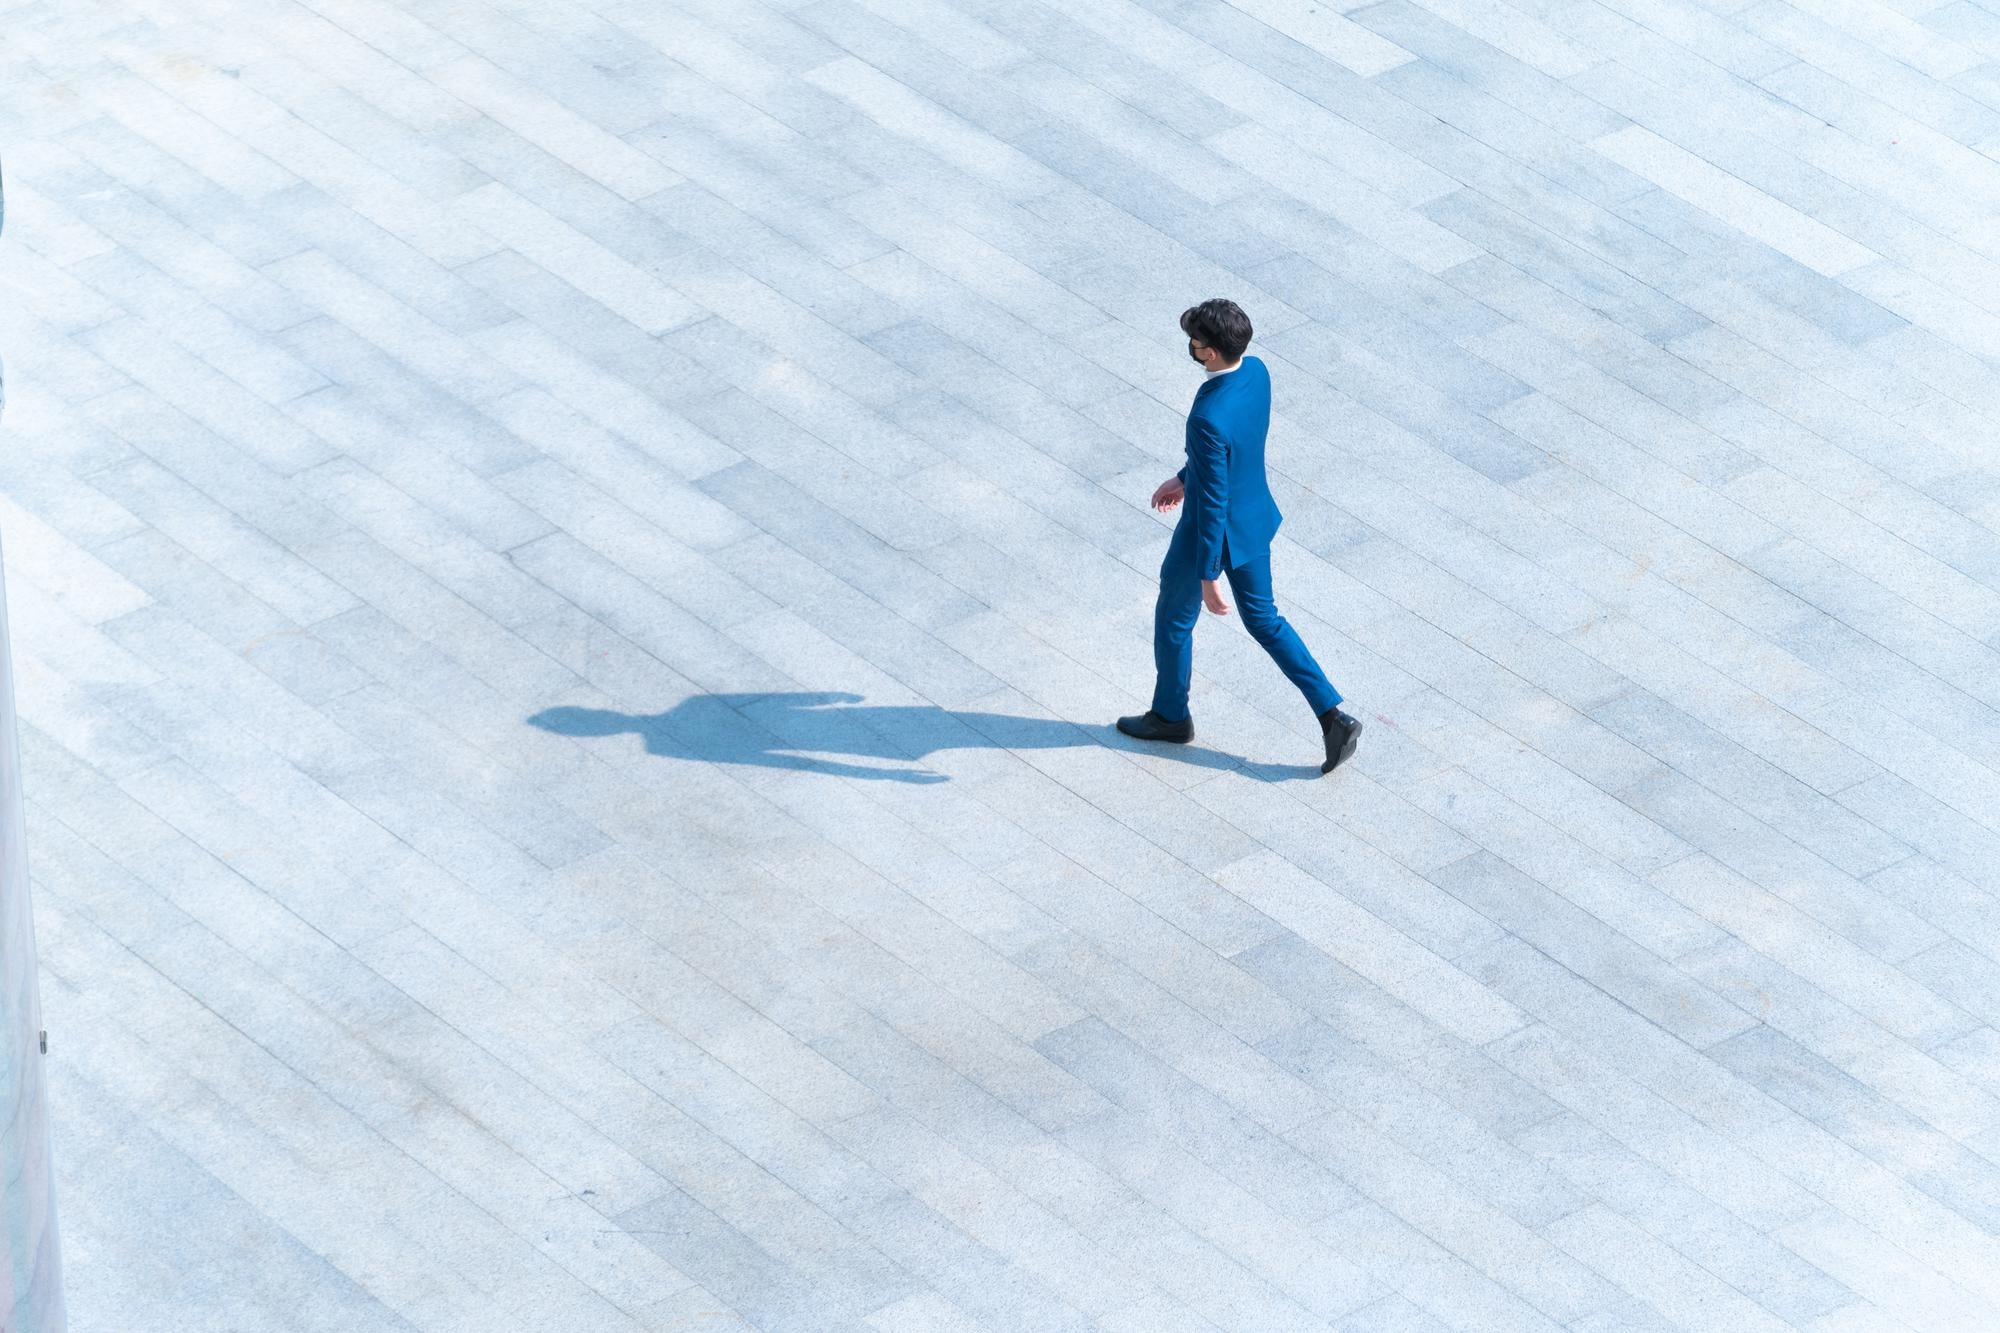person: (1141, 299, 1362, 775)
